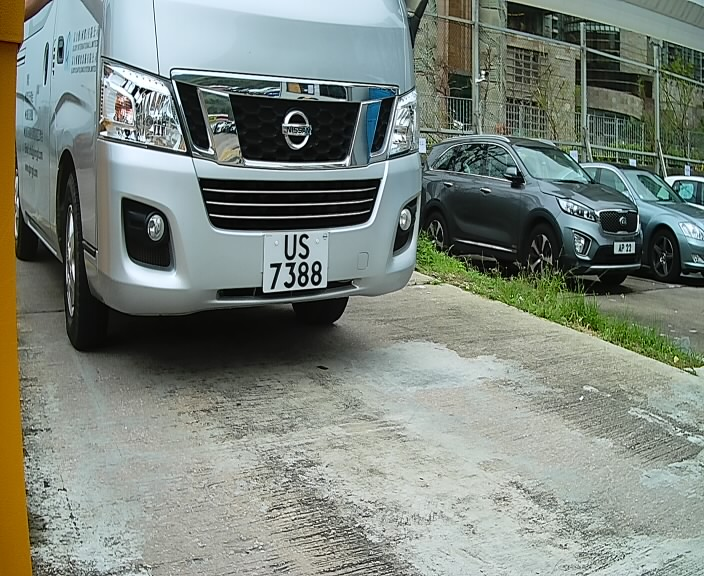Car: (15, 2, 438, 369)
License Plate: (261, 230, 333, 300)
